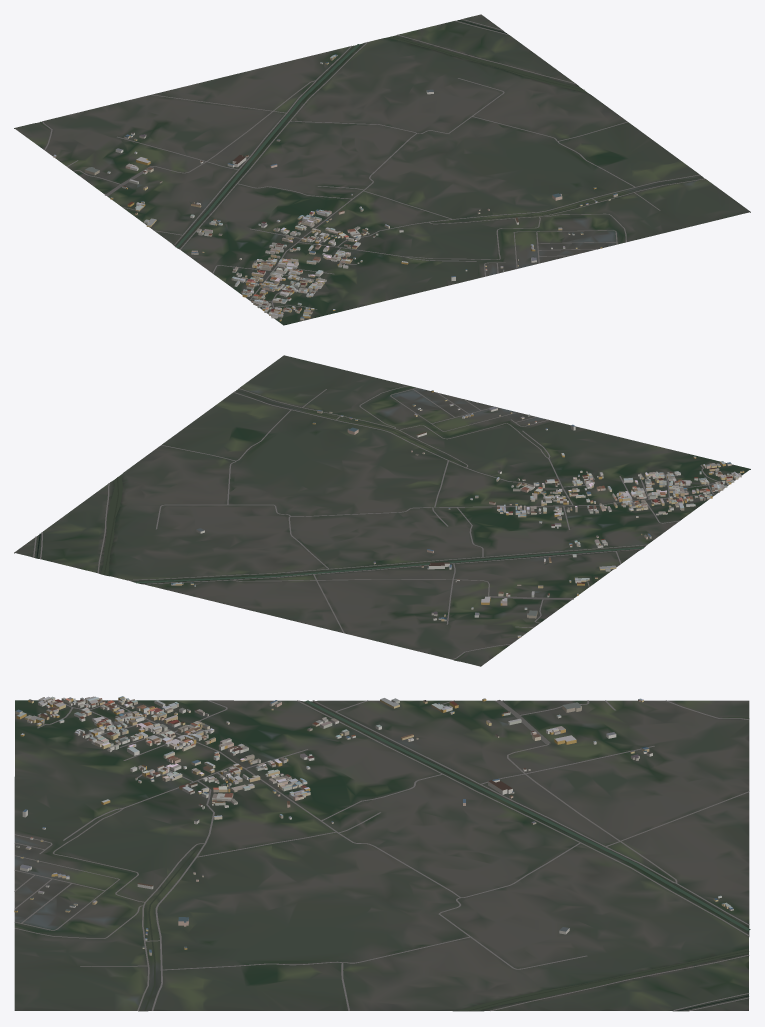
3 renders of one model, top to bottom at view 1: azimuth 30°, elevation 25°; view 2: azimuth 150°, elevation 25°; view 3: azimuth 270°, elevation 25°, orthographic. The views are drawn at different scales.
Visible parts, largest first — view 1: ground, buildings, roads, water; view 2: ground, buildings, roads, water; view 3: ground, buildings, roads, water.
Boxes of the visible parts, x1=… form: ground: x1=14, y1=14, x2=750, y2=325; buildings: x1=53, y1=54, x2=617, y2=321; roads: x1=42, y1=19, x2=705, y2=314; water: x1=40, y1=20, x2=702, y2=247; ground: x1=14, y1=355, x2=750, y2=666; buildings: x1=171, y1=390, x2=744, y2=637; roads: x1=33, y1=385, x2=735, y2=659; water: x1=36, y1=390, x2=643, y2=660; ground: x1=14, y1=700, x2=749, y2=1011; buildings: x1=14, y1=696, x2=733, y2=955; roads: x1=14, y1=700, x2=749, y2=1011; water: x1=144, y1=700, x2=750, y2=1011.
Size of the model in its own units: 1406 by 15.73 by 1405.
